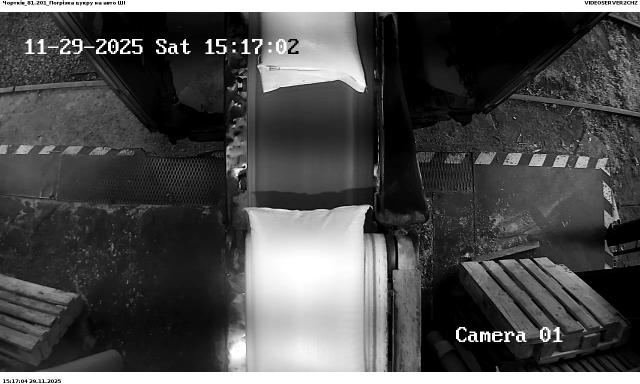bag: (242, 205, 373, 372), (259, 12, 367, 91)
